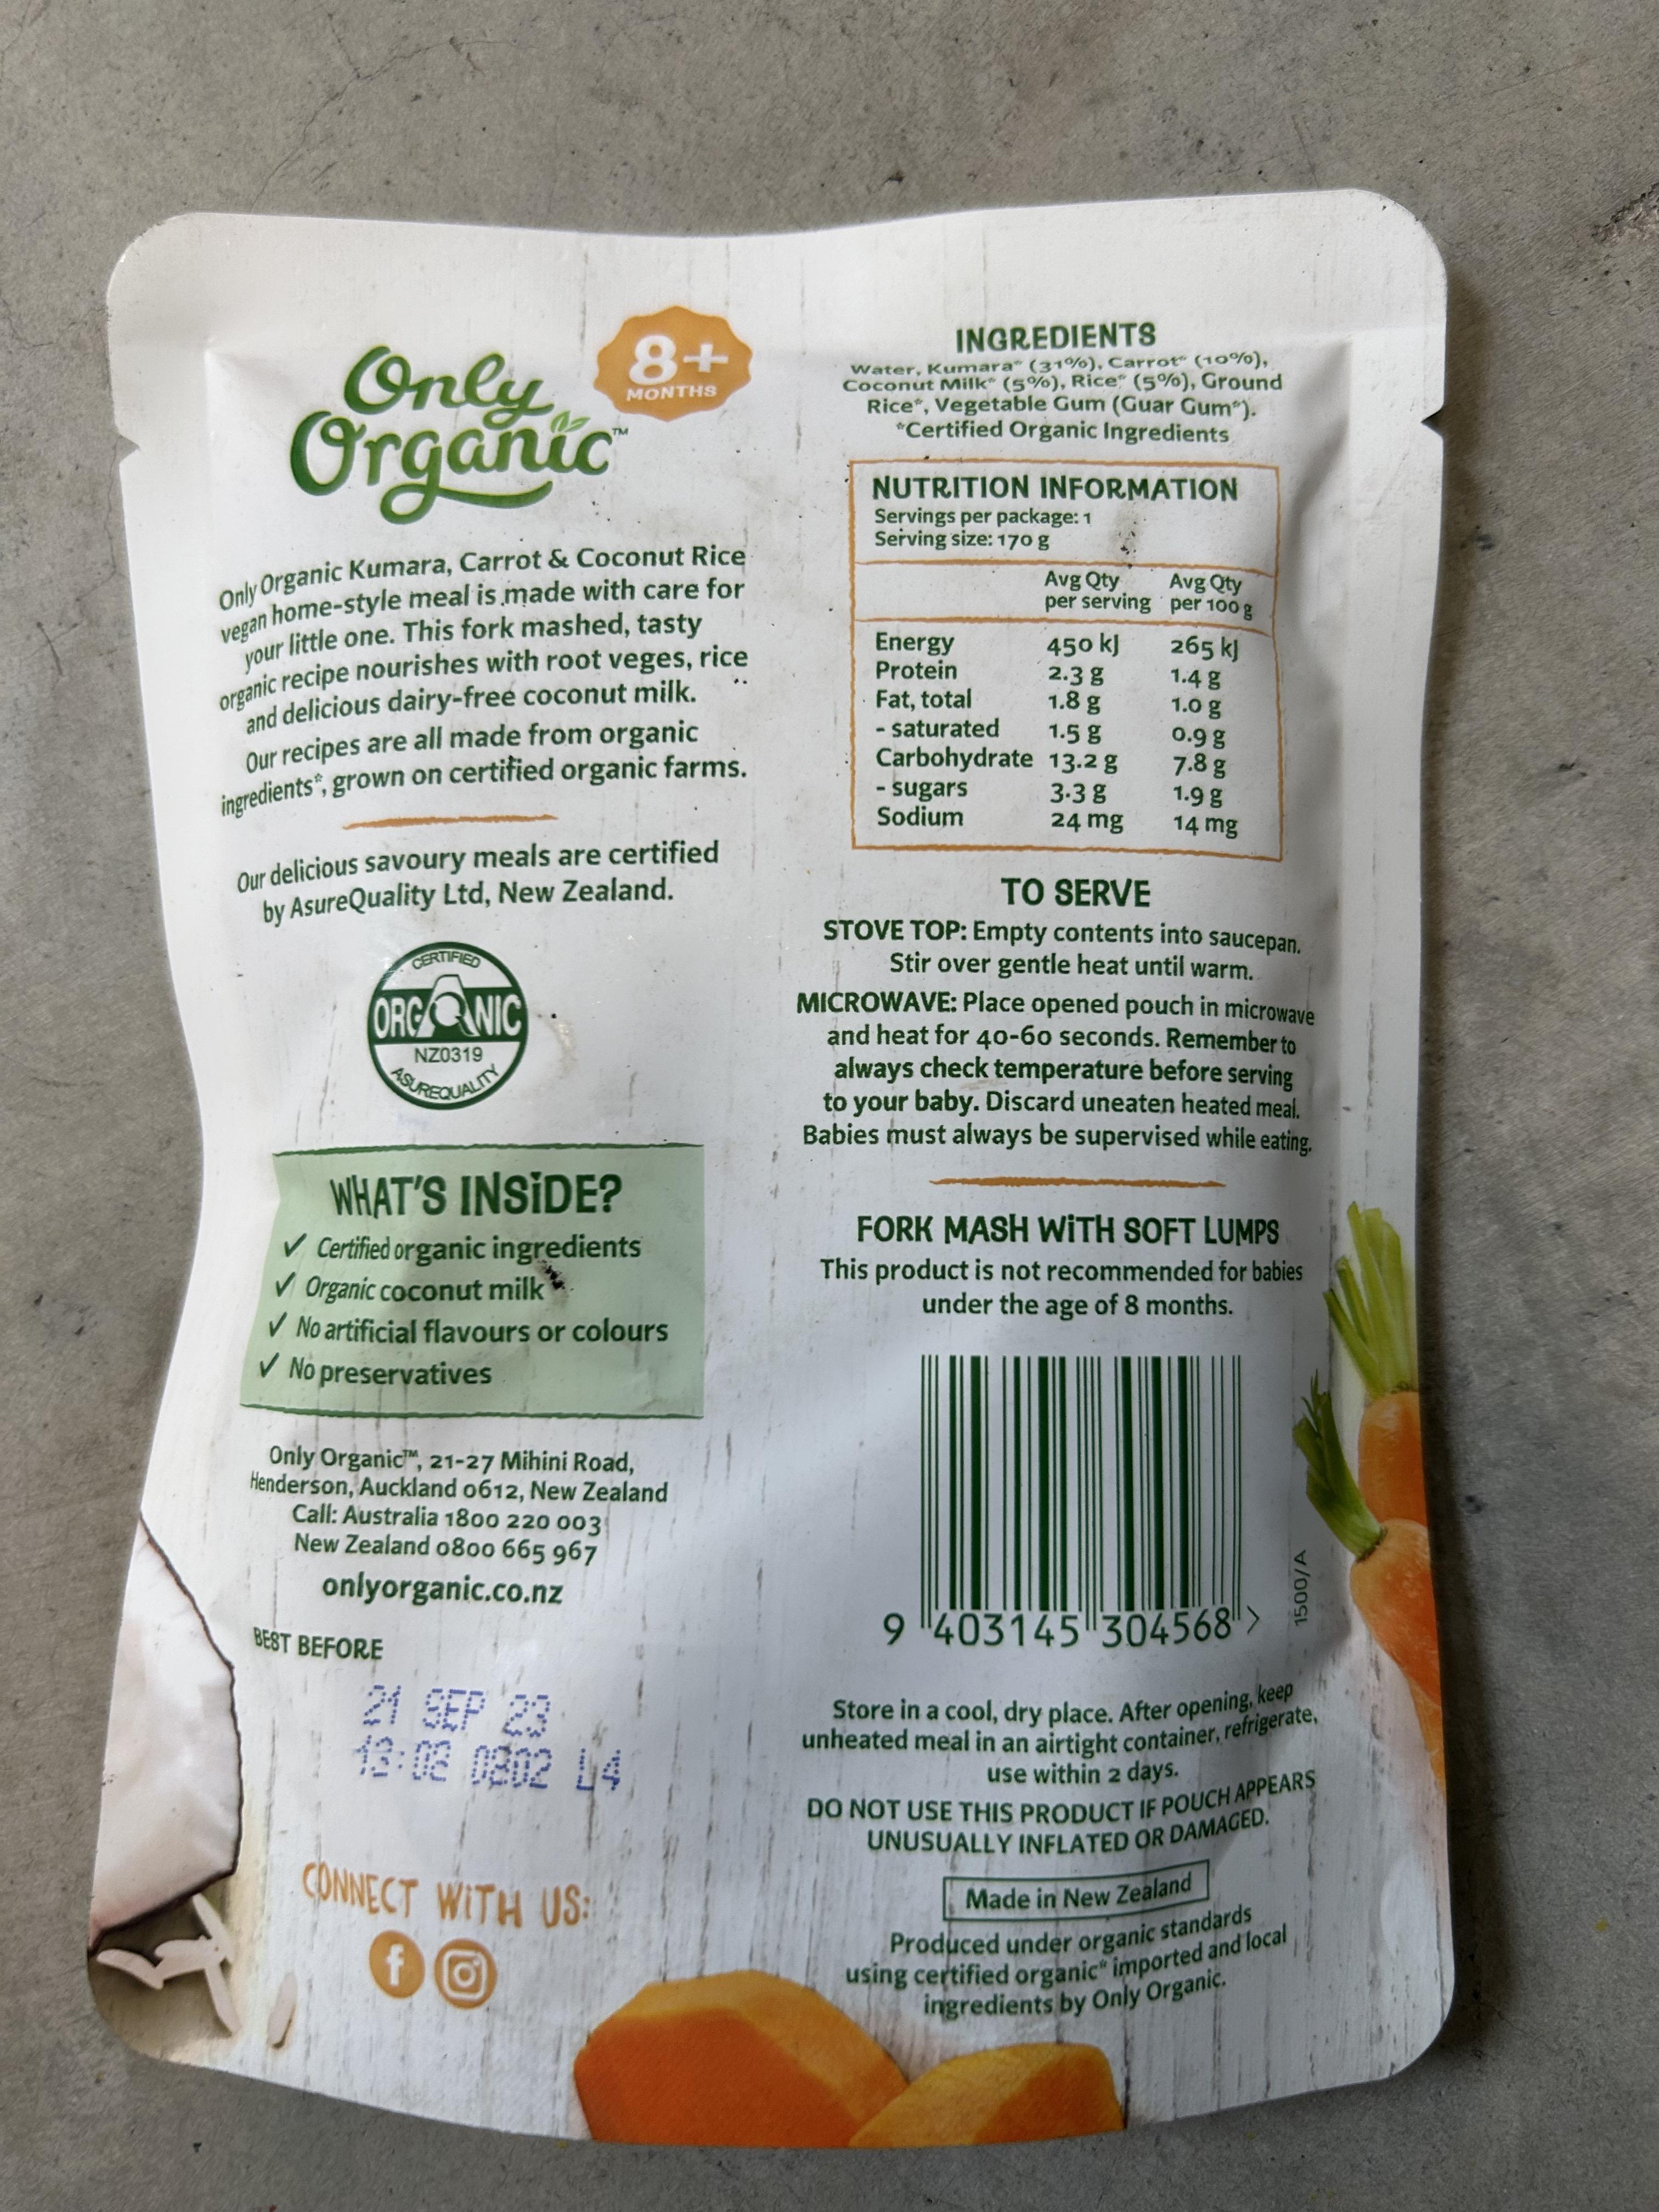object_name: (171, 244, 1408, 2064)
